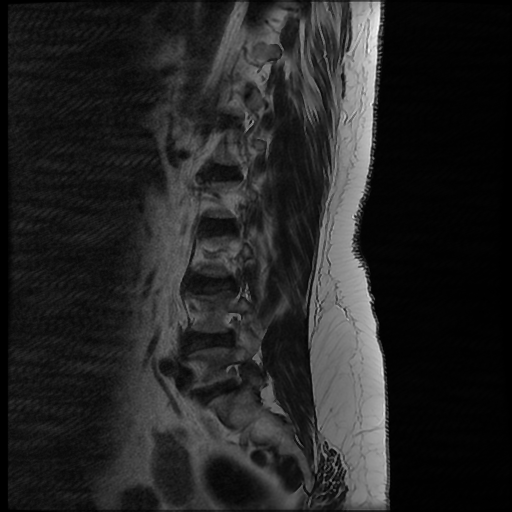LFS0: (218, 352, 250, 396)
